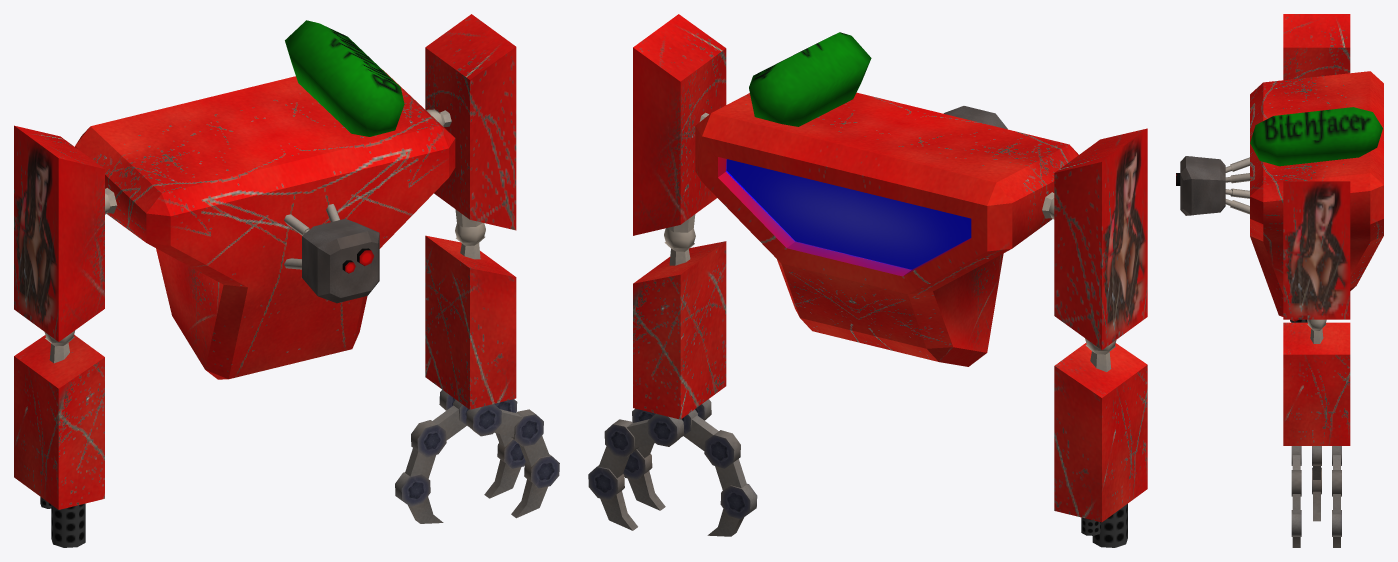
The model's file is Enemie_New.FBX.
The picture shows the model from 3 angles, left to right: view 1: azimuth 30°, elevation 25°; view 2: azimuth 150°, elevation 25°; view 3: azimuth 270°, elevation 25°; orthographic projection. The views are drawn at different scales.
Parts seen in each view (by area): view 1: Body, Oberarm_L001, Oberarm_L, Unterarm_L001, Unterarm_L, Capsule001, Head, Finger_2, Finger_012, Finger_3, Cylinder005, Finger_010 (+3 smaller); view 2: Body, Oberarm_L001, Oberarm_L, Unterarm_L001, Unterarm_L, Capsule001, Finger_2, Finger_015, Finger_3, Finger_013, Finger_014, Finger_012 (+3 smaller); view 3: Body, Oberarm_L, Unterarm_L, Capsule001, Oberarm_L001, Head, Neck, Finger_011, Finger_014, Finger_3, Finger_012, Finger_015.
Boxes of the visible parts, <box> form: Body: <box>75,69,455,379</box>; Oberarm_L001: <box>14,125,104,342</box>; Oberarm_L: <box>425,14,516,242</box>; Unterarm_L001: <box>14,334,104,509</box>; Unterarm_L: <box>425,235,516,409</box>; Capsule001: <box>285,20,404,136</box>; Head: <box>302,219,379,303</box>; Finger_2: <box>405,420,446,478</box>; Finger_012: <box>511,454,559,518</box>; Finger_3: <box>395,472,443,523</box>; Cylinder005: <box>51,503,85,547</box>; Finger_010: <box>466,404,522,437</box>; Body: <box>695,92,1078,366</box>; Oberarm_L001: <box>1054,128,1147,351</box>; Oberarm_L: <box>633,14,726,248</box>; Unterarm_L001: <box>1054,343,1147,522</box>; Unterarm_L: <box>633,241,726,419</box>; Capsule001: <box>749,32,871,126</box>; Finger_2: <box>704,430,746,490</box>; Finger_015: <box>588,465,637,530</box>; Finger_3: <box>707,483,757,536</box>; Finger_013: <box>627,413,684,447</box>; Finger_014: <box>598,419,638,478</box>; Finger_012: <box>623,449,665,510</box>; Body: <box>1250,71,1383,321</box>; Oberarm_L: <box>1283,181,1350,328</box>; Unterarm_L: <box>1283,322,1350,445</box>; Capsule001: <box>1250,107,1382,166</box>; Oberarm_L001: <box>1283,14,1350,80</box>; Head: <box>1180,156,1225,215</box>; Neck: <box>1225,157,1249,214</box>; Finger_011: <box>1291,470,1301,514</box>; Finger_014: <box>1332,470,1341,514</box>; Finger_3: <box>1312,467,1321,521</box>; Finger_012: <box>1291,510,1301,547</box>; Finger_015: <box>1332,510,1341,547</box>.
Bounding box in the file's own units: 328 × 311 × 155.
